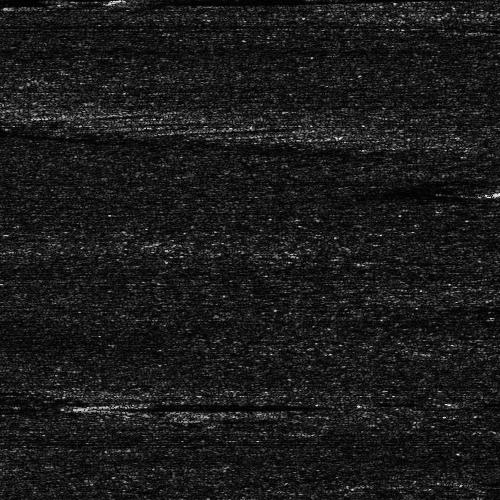rock: (150, 416, 203, 421), (476, 187, 500, 198), (101, 400, 132, 407), (86, 0, 191, 1)
shadow: (117, 400, 312, 407), (0, 0, 80, 12), (177, 416, 227, 421), (139, 0, 386, 1)
